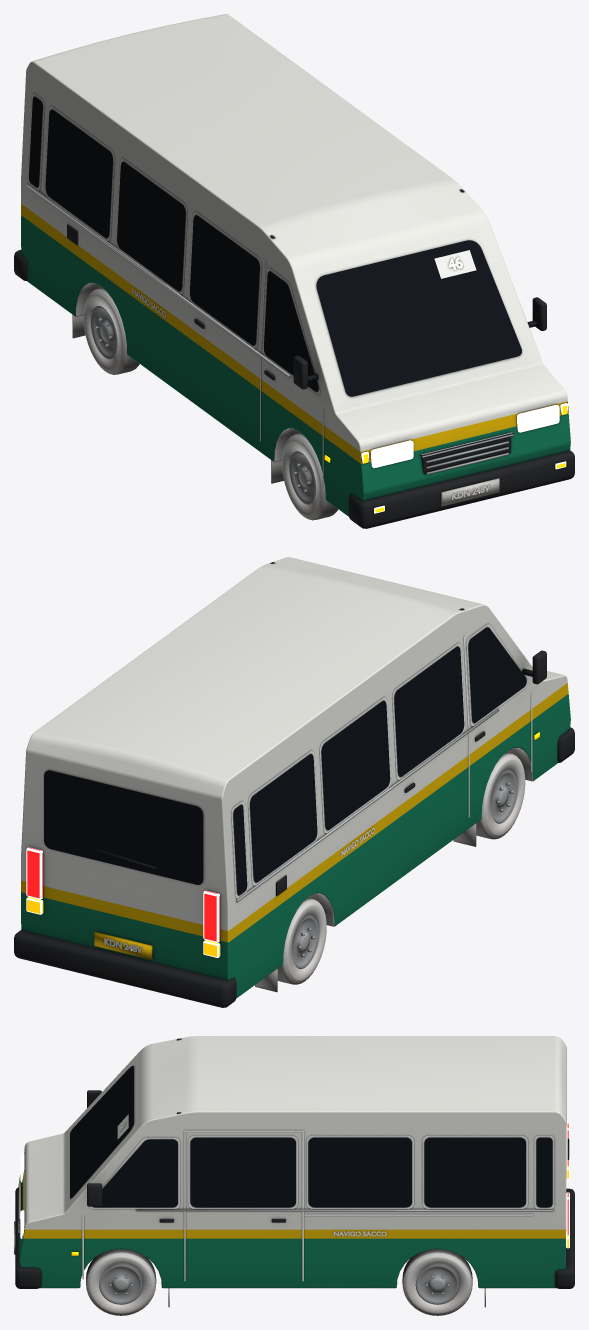
File: matatu.glb
3 renders of one model, top to bottom at view 1: azimuth 30°, elevation 25°; view 2: azimuth 150°, elevation 25°; view 3: azimuth 270°, elevation 25°, orthographic. The views are drawn at different scales.
Visible parts, largest first — view 1: body, glass, wheel_rr, wheel_fr, lights; view 2: body, glass, wheel_rr, wheel_fr, lights; view 3: body, glass, wheel_rl, wheel_fl, lights.
Part boxes in pixels (x1=…): body: x1=14, y1=14, x2=574, y2=528; glass: x1=29, y1=96, x2=521, y2=396; wheel_rr: x1=83, y1=287, x2=139, y2=374; wheel_fr: x1=282, y1=433, x2=338, y2=520; lights: x1=361, y1=403, x2=567, y2=513; body: x1=14, y1=557, x2=574, y2=1007; glass: x1=44, y1=627, x2=526, y2=895; wheel_rr: x1=277, y1=897, x2=326, y2=984; wheel_fr: x1=476, y1=752, x2=525, y2=839; lights: x1=26, y1=847, x2=220, y2=957; body: x1=14, y1=1036, x2=574, y2=1307; glass: x1=70, y1=1066, x2=552, y2=1207; wheel_rl: x1=402, y1=1249, x2=472, y2=1315; wheel_fl: x1=86, y1=1249, x2=156, y2=1315; lights: x1=14, y1=1123, x2=569, y2=1273.
Size of the model in its own units: 2.22 by 2.25 by 5.51.
Materials: 19 (14 with a texture image).
